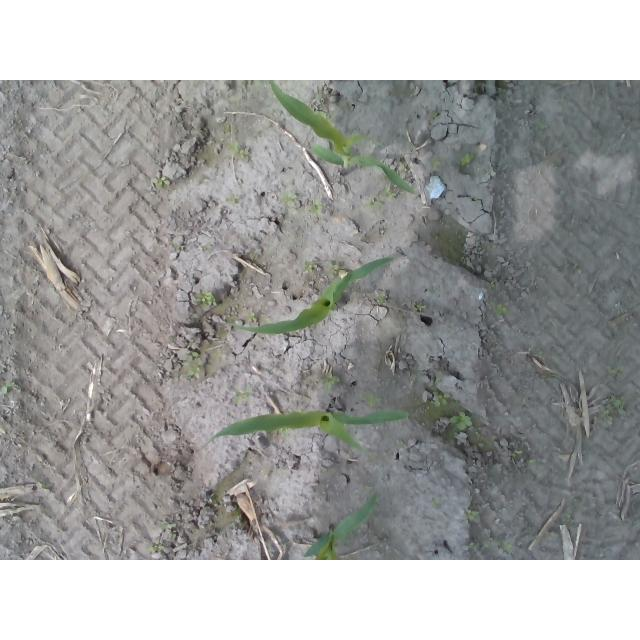Maize: (268, 80, 418, 196), (226, 254, 394, 336), (201, 388, 412, 453), (305, 494, 376, 560)
Weeds: (600, 396, 624, 420), (448, 410, 472, 431), (184, 350, 201, 378), (233, 383, 254, 403), (151, 171, 172, 188), (227, 143, 248, 159), (318, 375, 339, 390), (366, 392, 385, 408), (200, 290, 217, 307), (462, 509, 481, 524), (460, 152, 475, 169), (309, 200, 323, 217), (283, 192, 298, 207), (0, 382, 16, 396), (434, 393, 450, 406), (147, 544, 165, 554), (496, 304, 508, 317), (368, 200, 384, 209), (382, 191, 397, 200), (502, 543, 514, 553), (303, 264, 317, 272), (245, 311, 256, 321), (431, 159, 441, 170), (375, 294, 385, 304), (161, 521, 172, 529), (416, 304, 426, 311)
